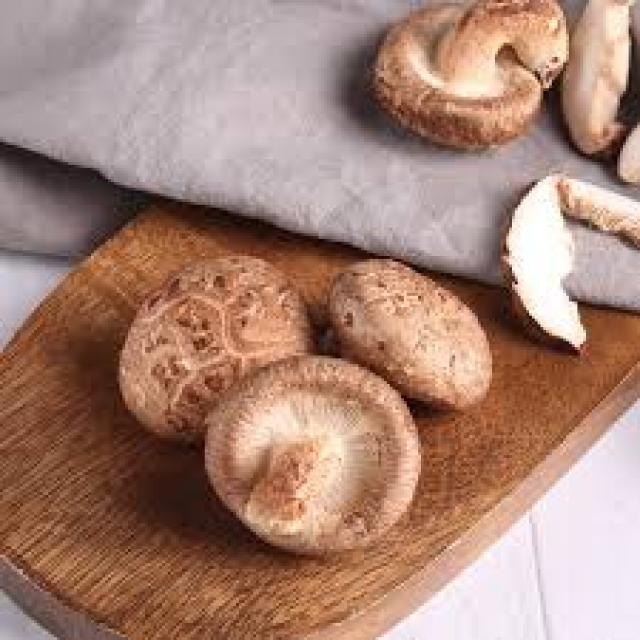mushroom: (205, 358, 424, 558), (330, 259, 495, 412)
